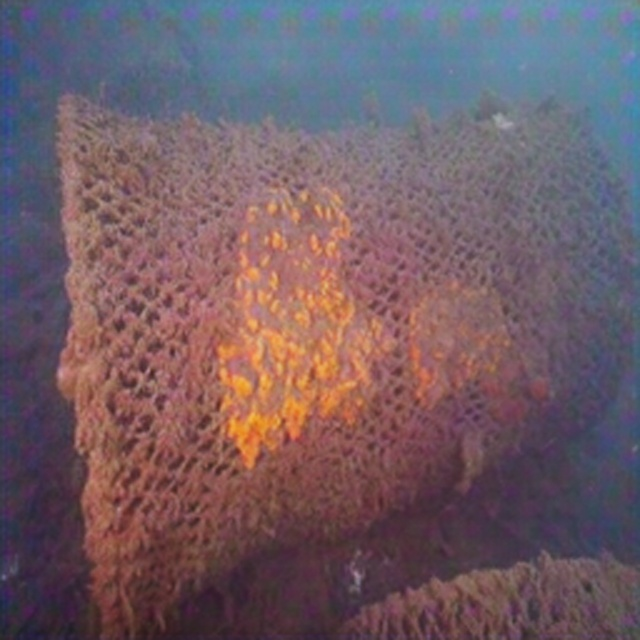mine: (56, 93, 639, 639)
